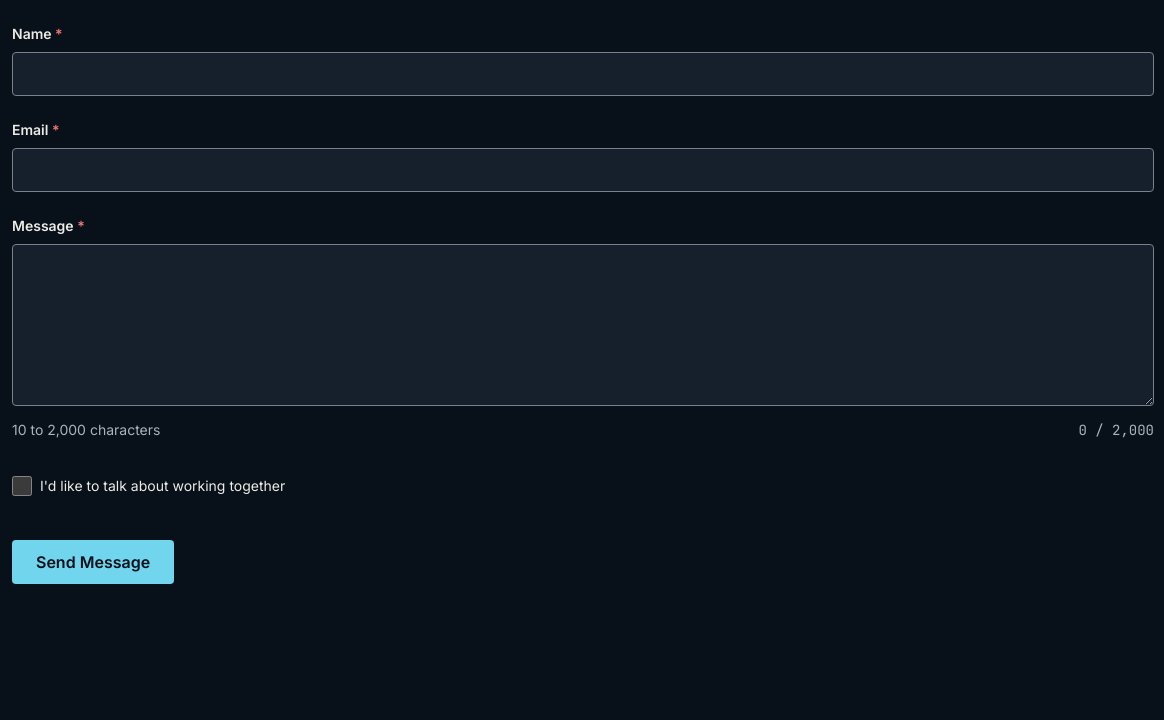
SummitRegister › dates the register entry with formatEntryTime of the submit time
This screenshot has width=1164, height=720.
In the field labelled "Name *": [583, 74] box [12,52,1154,96], type "John Doe"
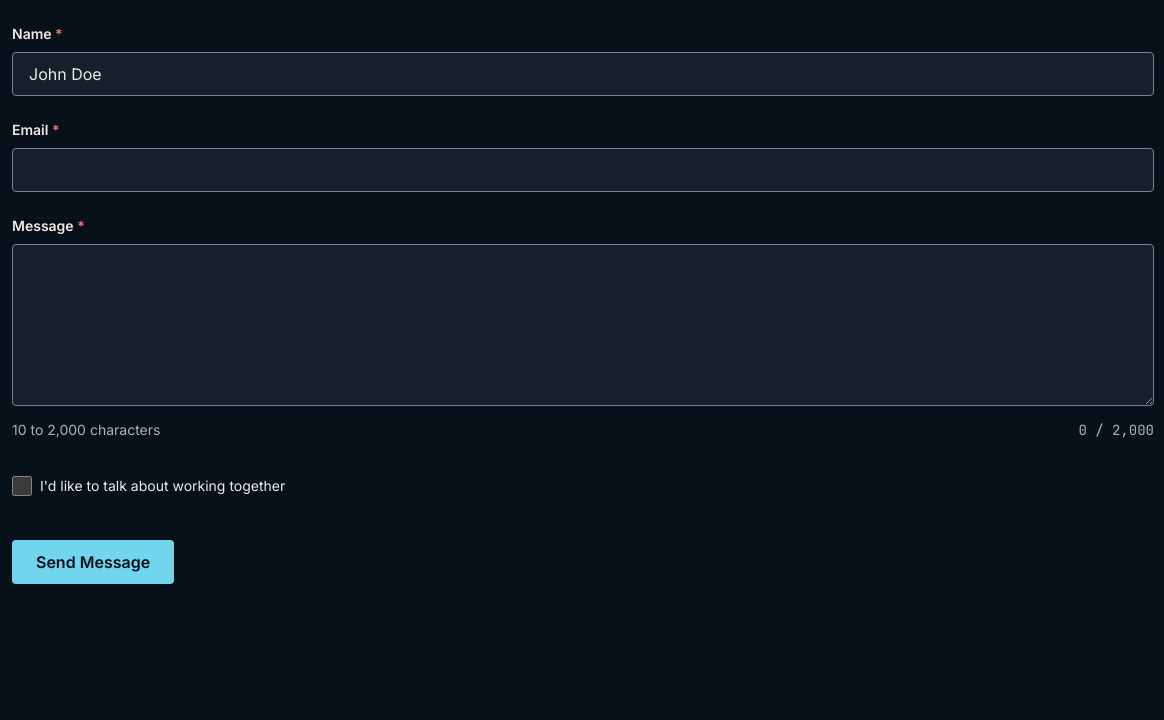
In the field labelled "Email *": [583, 170] box [12,148,1154,192], type "john@example.com"
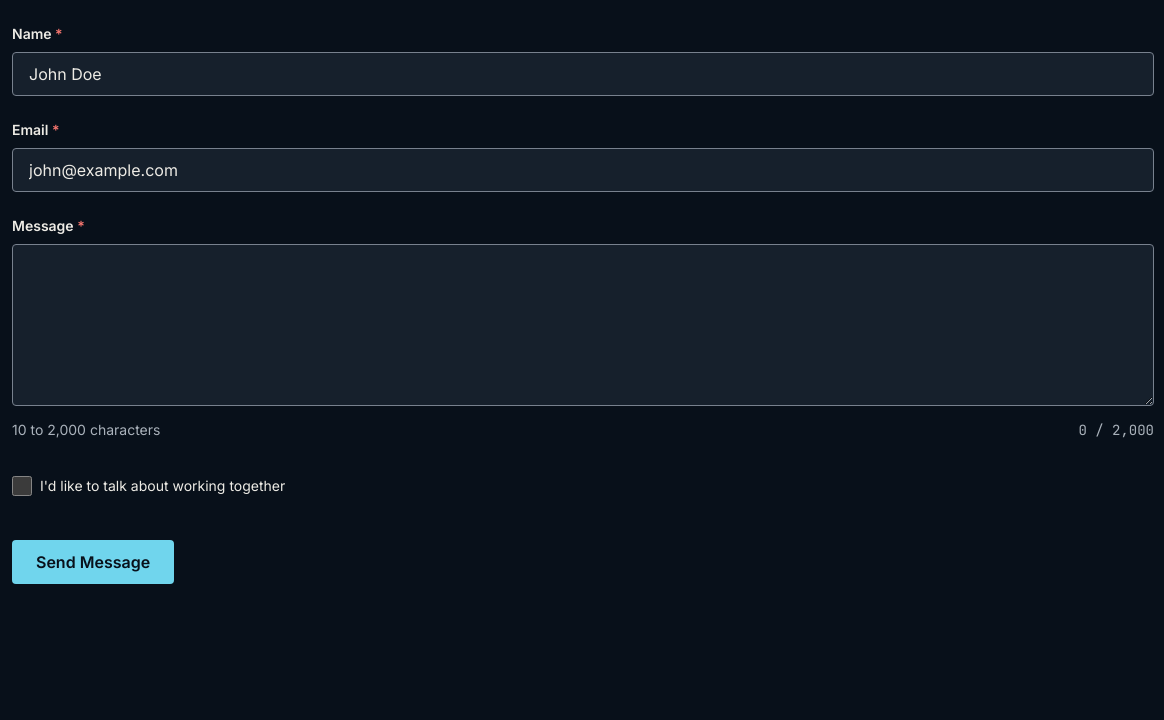
In the text box labelled "Message *": [583, 325] box [12,244,1154,406], type "This is a test message that is long enough."
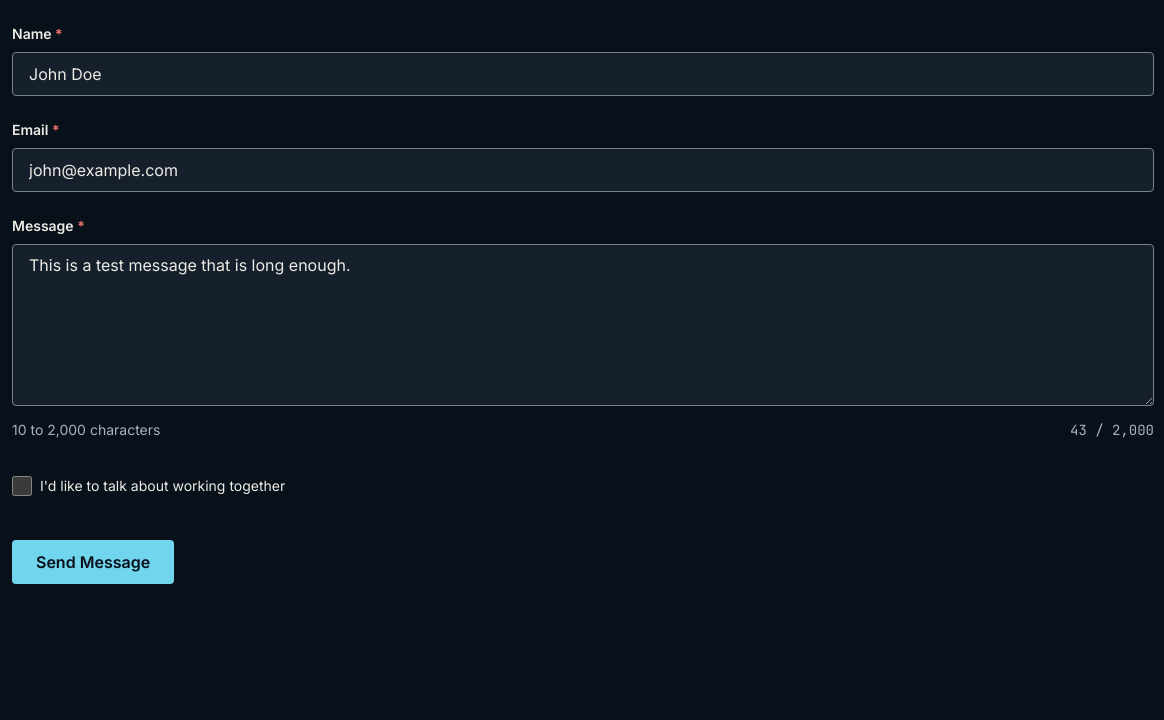
Click the button "Send Message": [93, 562] box [12,540,174,584]
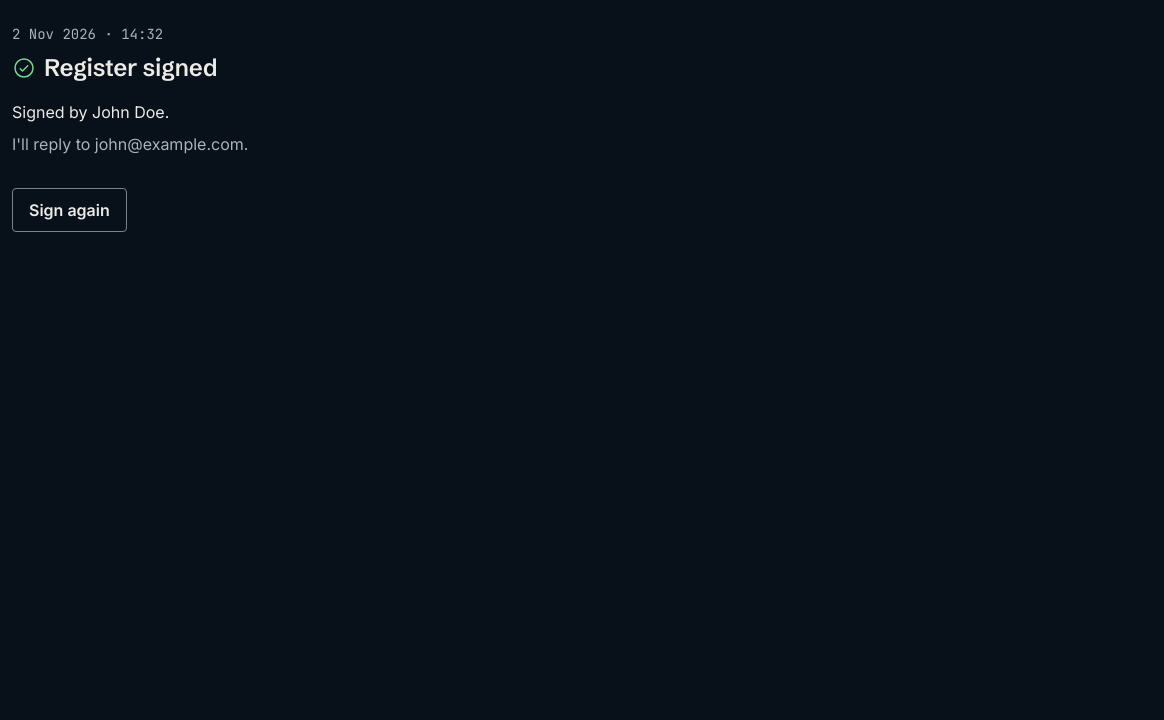
Now the text "2 Nov 2026 · 14:32" is shown, box [12,25,163,43]
Now the text "Register signed" shows "2 Nov 2026 · 14:32", box [12,25,163,43]
